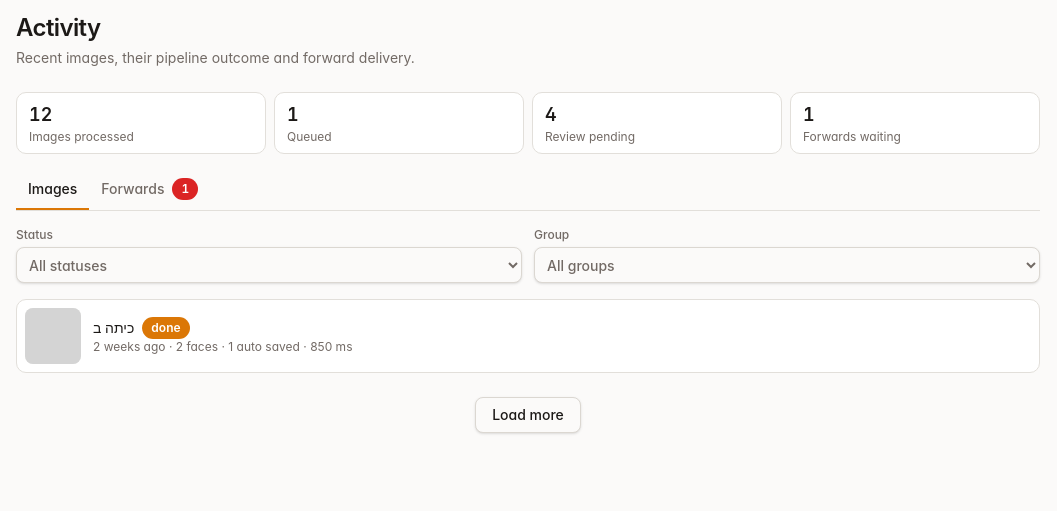
Test: ActivityPage › loads more with the cursor
This screenshot has width=1057, height=511.
Expected: the button with aria-label "Open image 3" is shown, [16,299,1040,373]
Click the button "Load more": (528, 415) [475,397,581,433]
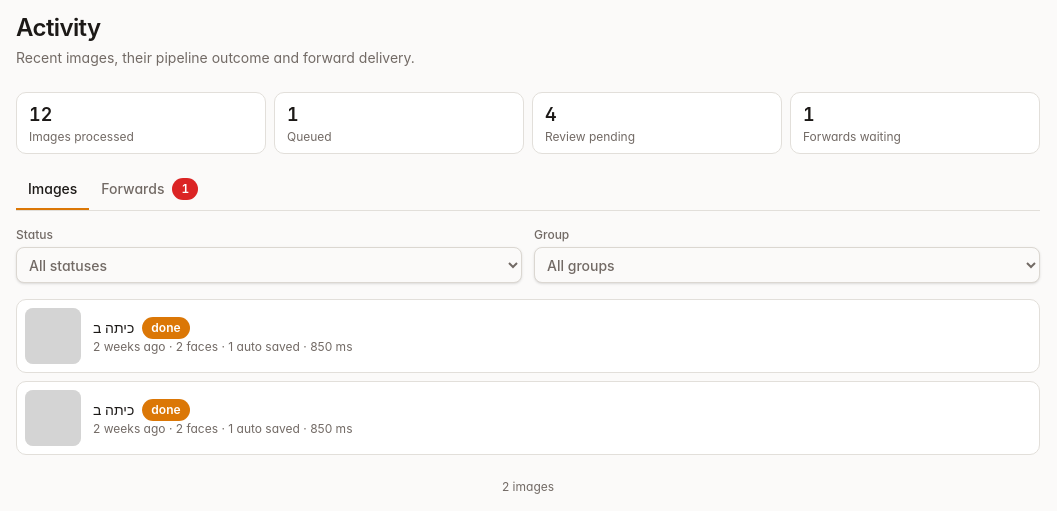
Expected: the button with aria-label "Open image 1" is shown, [16,381,1040,455]
